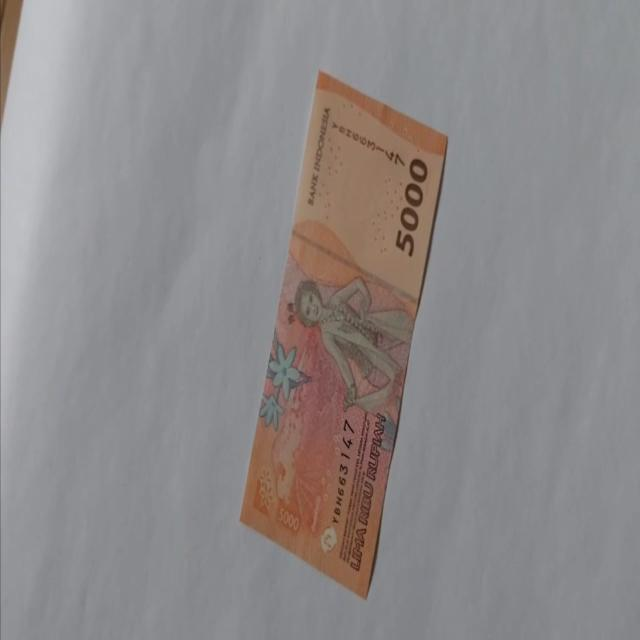lima ribu rupiah: (238, 68, 448, 600)
